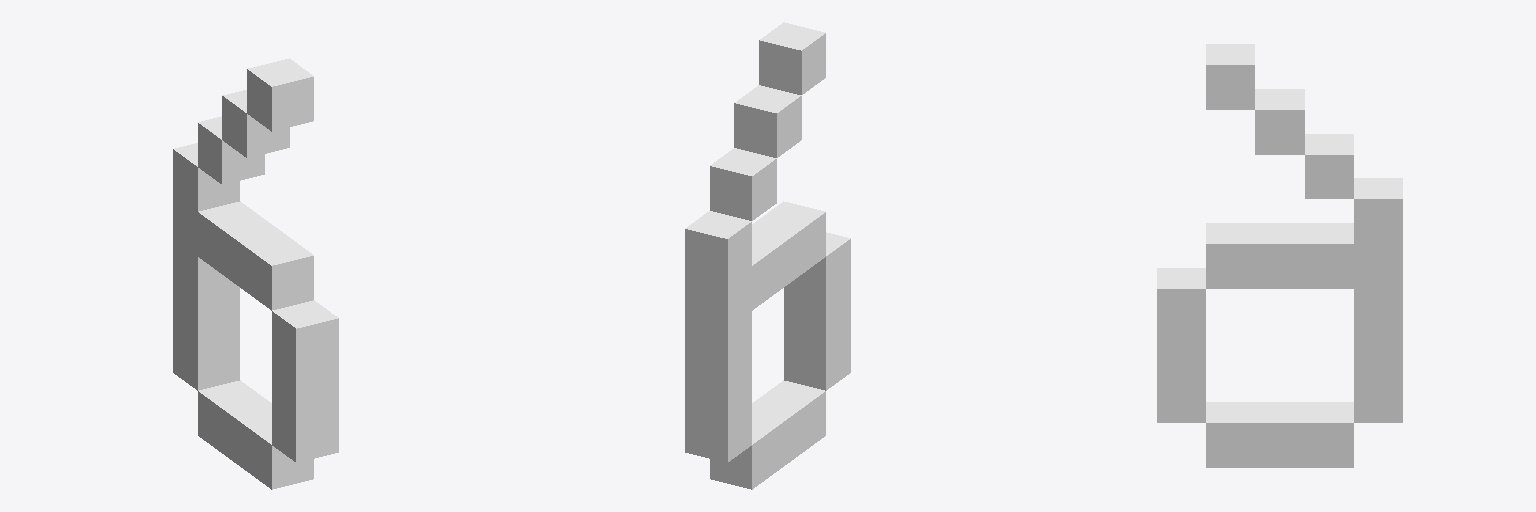
File: dig_6.obj
The picture shows the model from 3 angles: view 1: azimuth 30°, elevation 25°; view 2: azimuth 150°, elevation 25°; view 3: azimuth 270°, elevation 25°; orthographic projection.
Visible parts, largest first — view 1: object 1; view 2: object 1; view 3: object 1.
Part boxes in pixels (left/top/right/bottom): object 1: left=173, top=58, right=338, bottom=489; object 1: left=685, top=22, right=850, bottom=489; object 1: left=1157, top=44, right=1402, bottom=467.
Bounding box in the file's own units: 0.1 × 0.9 × 0.5.